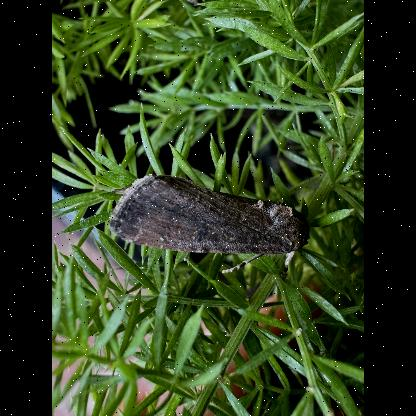Fall Armyworm Moth: (106, 171, 312, 281)
